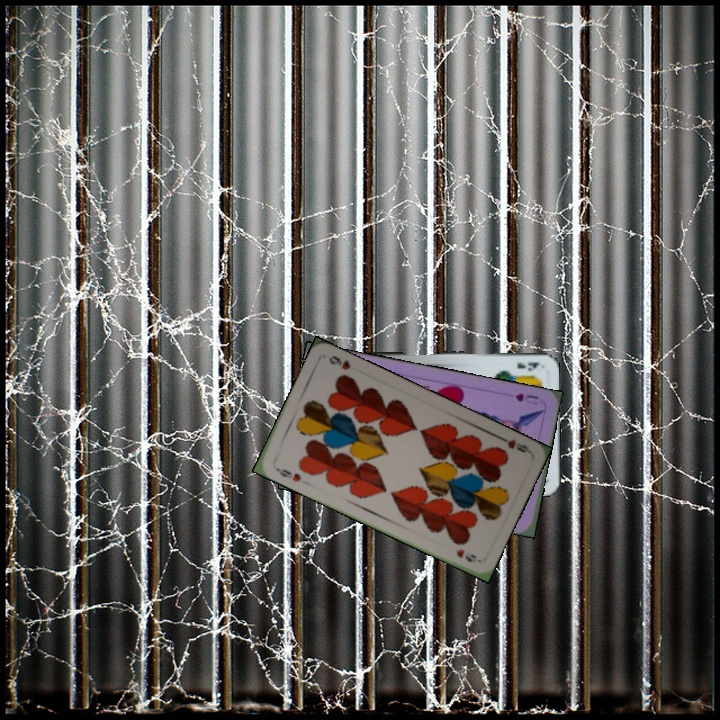EK: (513, 358, 542, 371)
H9: (494, 431, 532, 456), (271, 461, 304, 485)
HU: (511, 389, 541, 407)
